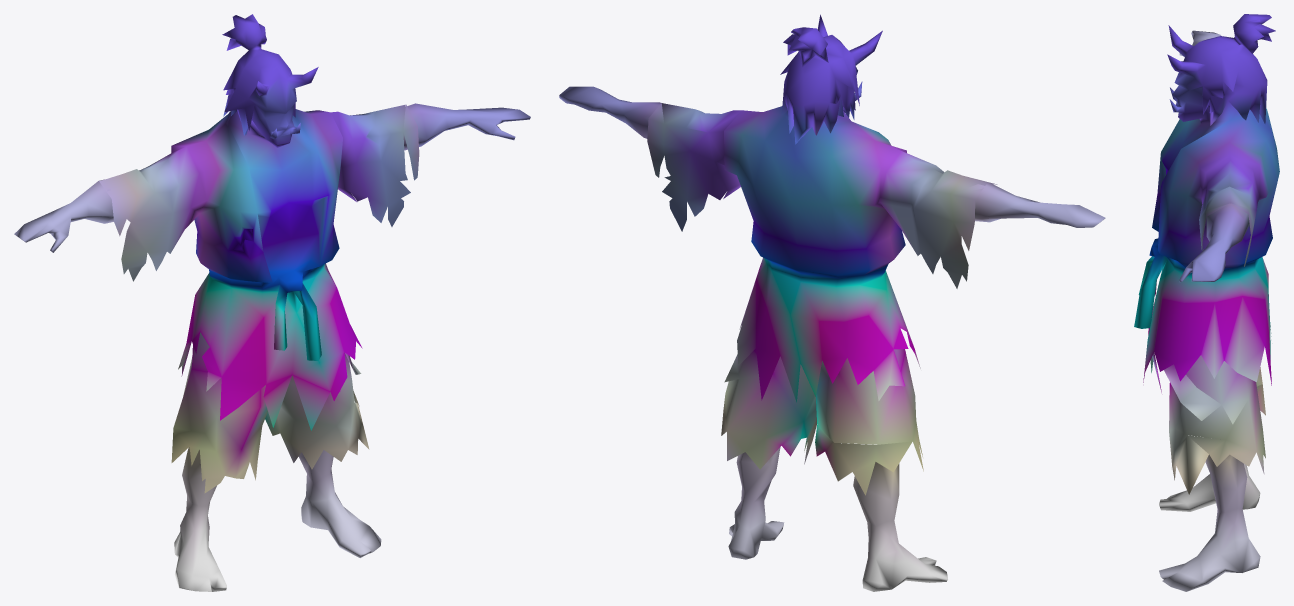
File: oni.glb
3 renders of one model, left to right at view 1: azimuth 30°, elevation 25°; view 2: azimuth 150°, elevation 25°; view 3: azimuth 270°, elevation 25°, orthographic. The views are drawn at different scales.
Parts seen in each view (by area): view 1: zombie_body; view 2: zombie_body; view 3: zombie_body.
Boxes of the visible parts, x1,y1,x2,y2 form: zombie_body: [14, 14, 530, 591]; zombie_body: [559, 14, 1105, 591]; zombie_body: [1134, 14, 1279, 591].
Size of the model in its own units: 0.9998 by 0.9861 by 0.2466.
